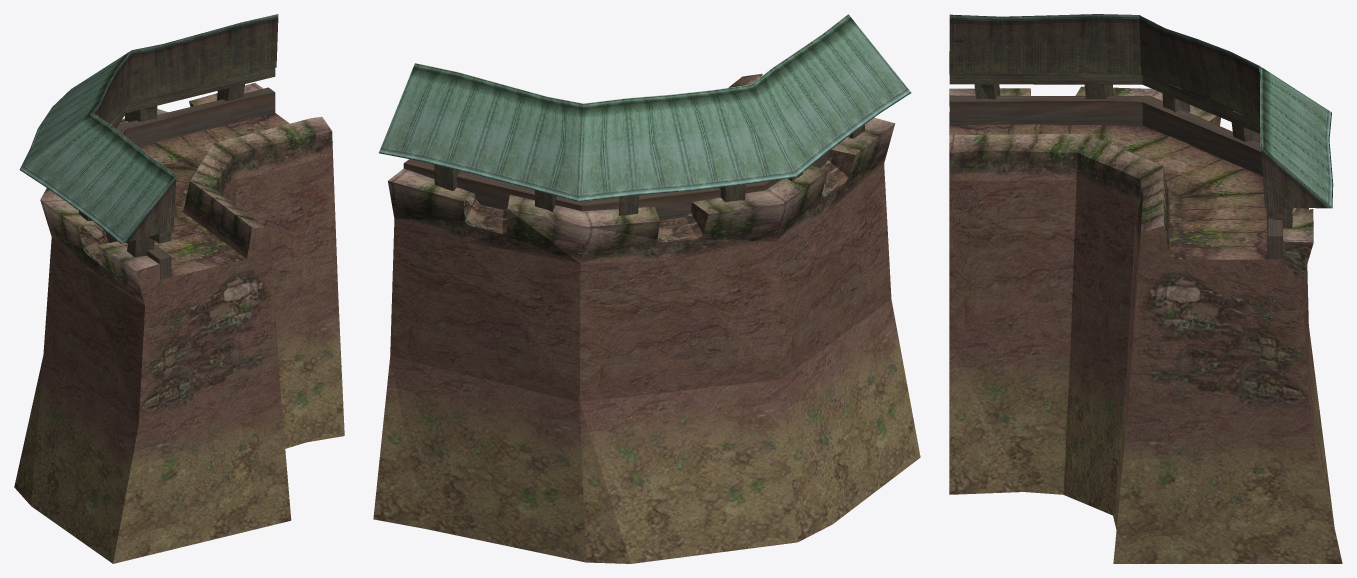
The model's file is C1SMWA10CBB_H.obj.
3 views of the same model, side by side, from view 1: azimuth 30°, elevation 25°; view 2: azimuth 150°, elevation 25°; view 3: azimuth 270°, elevation 25° (orthographic). The views are drawn at different scales.
Visible parts, largest first — view 1: Node 0; view 2: Node 0; view 3: Node 0.
Boxes of the visible parts, x1=… form: Node 0: x1=14, y1=14, x2=344, y2=563; Node 0: x1=373, y1=14, x2=920, y2=563; Node 0: x1=949, y1=14, x2=1342, y2=563.
Bounding box in the file's own units: 10.56 × 12.31 × 10.48.
4 materials, 4 textured.
